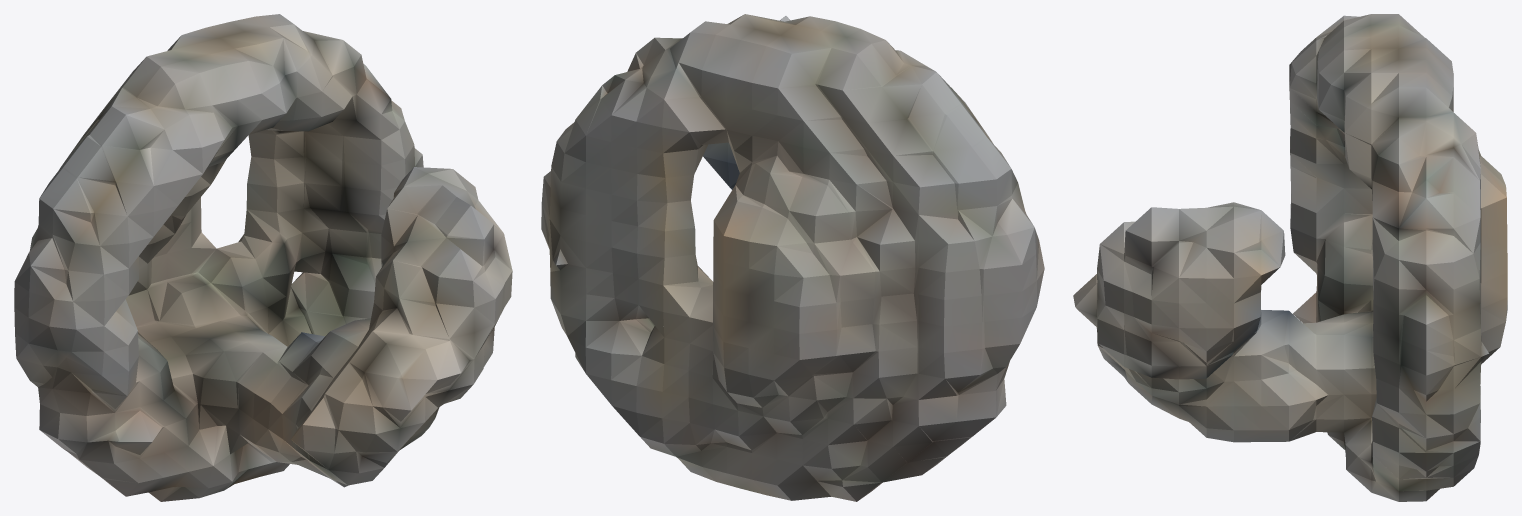
The picture shows the model from 3 angles, left to right: view 1: azimuth 30°, elevation 25°; view 2: azimuth 150°, elevation 25°; view 3: azimuth 270°, elevation 25°; orthographic projection. The views are drawn at different scales.
Visible parts, largest first — view 1: world; view 2: world; view 3: world.
Boxes of the visible parts, x1,y1,x2,y2 form: world: (14, 14, 512, 501); world: (541, 14, 1044, 501); world: (1073, 14, 1507, 501).
Bounding box in the file's own units: 1 × 0.9528 × 0.8879.
